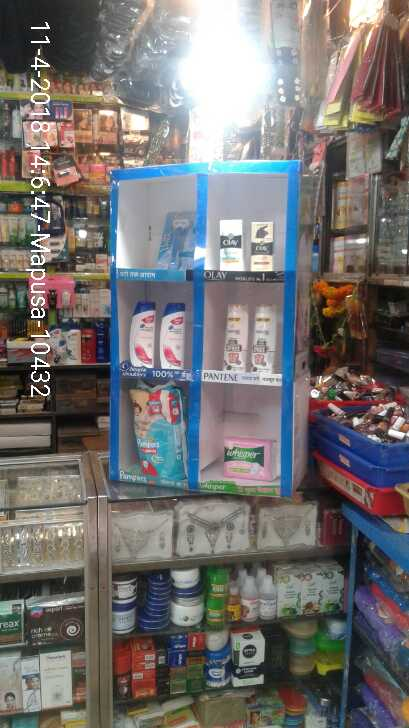venus: (156, 211, 196, 269)
